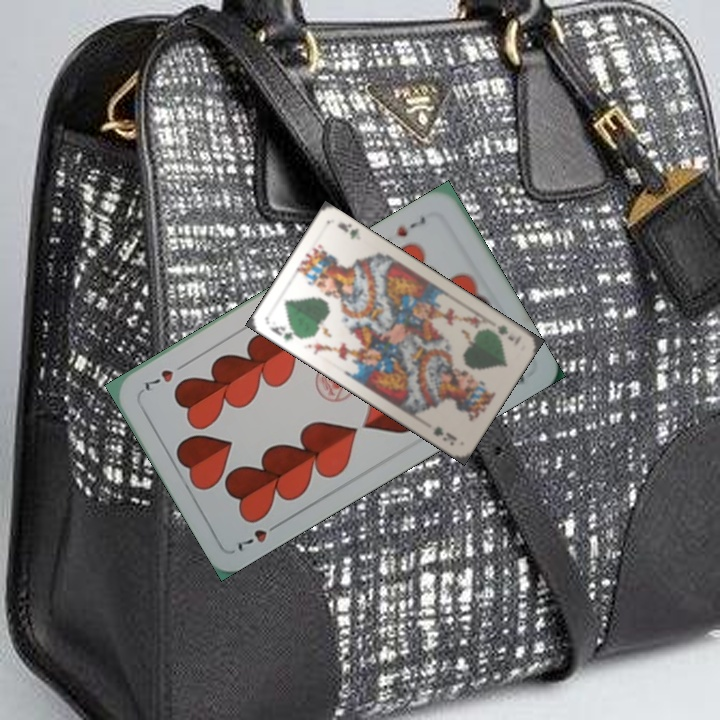GK: (266, 322, 303, 344), (493, 321, 516, 344)
H7: (233, 517, 285, 554), (393, 212, 429, 240)
